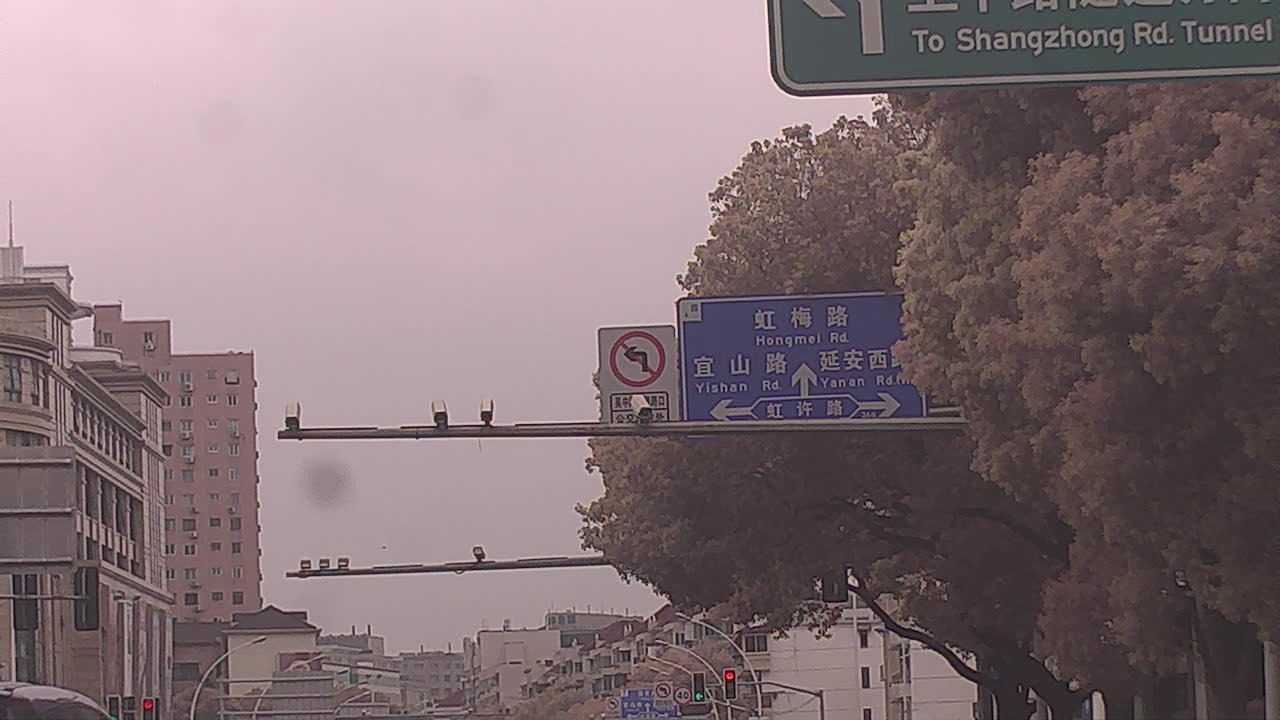traffic_light: (691, 671, 708, 705), (724, 668, 737, 698), (144, 698, 156, 719)
